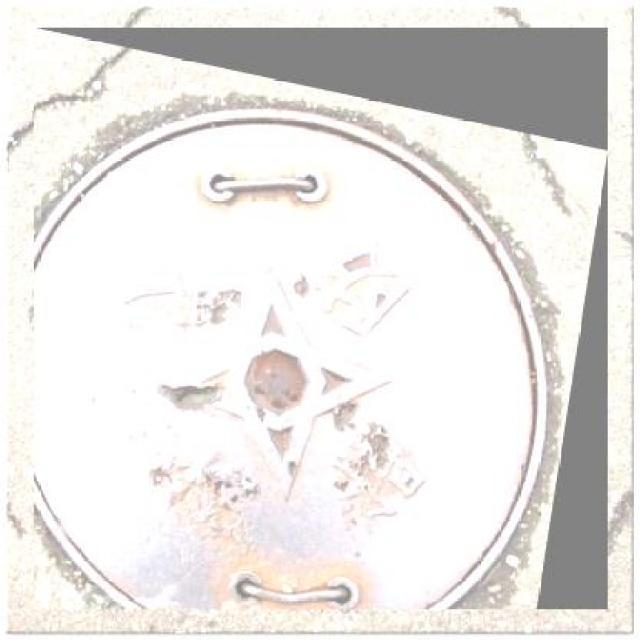Manhole: (34, 28, 608, 610)
